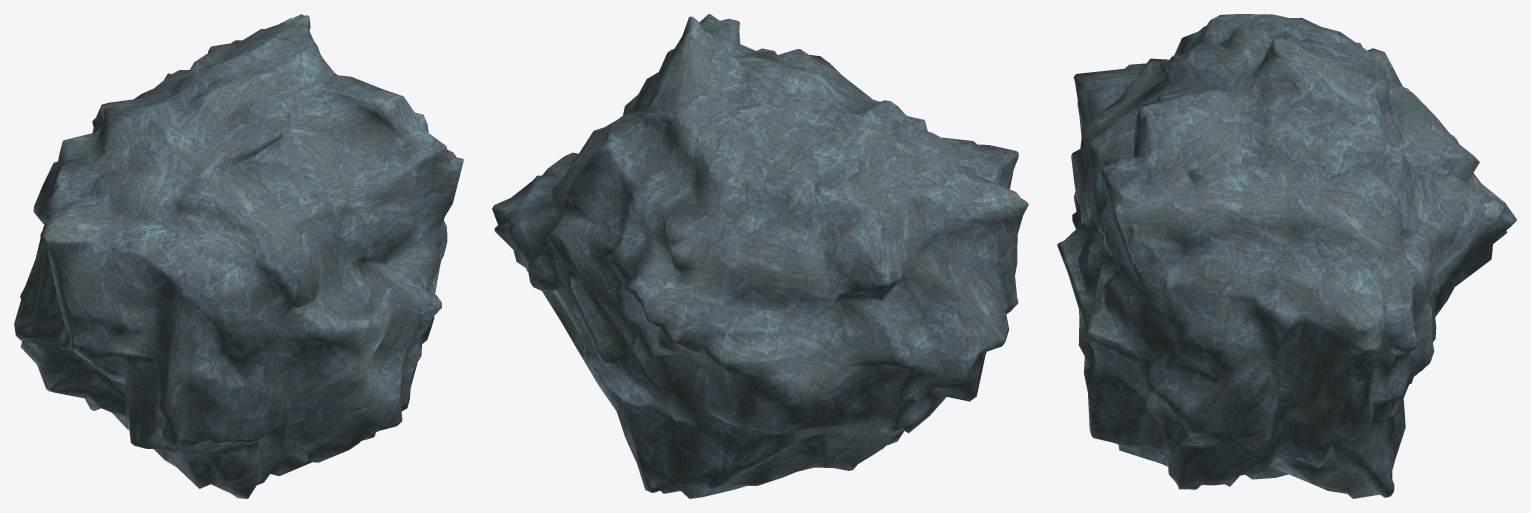
File: tesv_iceberglarge-transformed.glb
3 views of the same model, side by side, from view 1: azimuth 30°, elevation 25°; view 2: azimuth 150°, elevation 25°; view 3: azimuth 270°, elevation 25° (orthographic). The views are drawn at different scales.
Visible parts, largest first — view 1: iceberglarge; view 2: iceberglarge; view 3: iceberglarge.
Boxes of the visible parts, x1,y1,x2,y2 form: iceberglarge: [14, 14, 463, 498]; iceberglarge: [492, 14, 1028, 498]; iceberglarge: [1057, 14, 1516, 498].
Size of the model in its own units: 25.28 by 22.98 by 20.35.
Materials: 1 (1 with a texture image).
